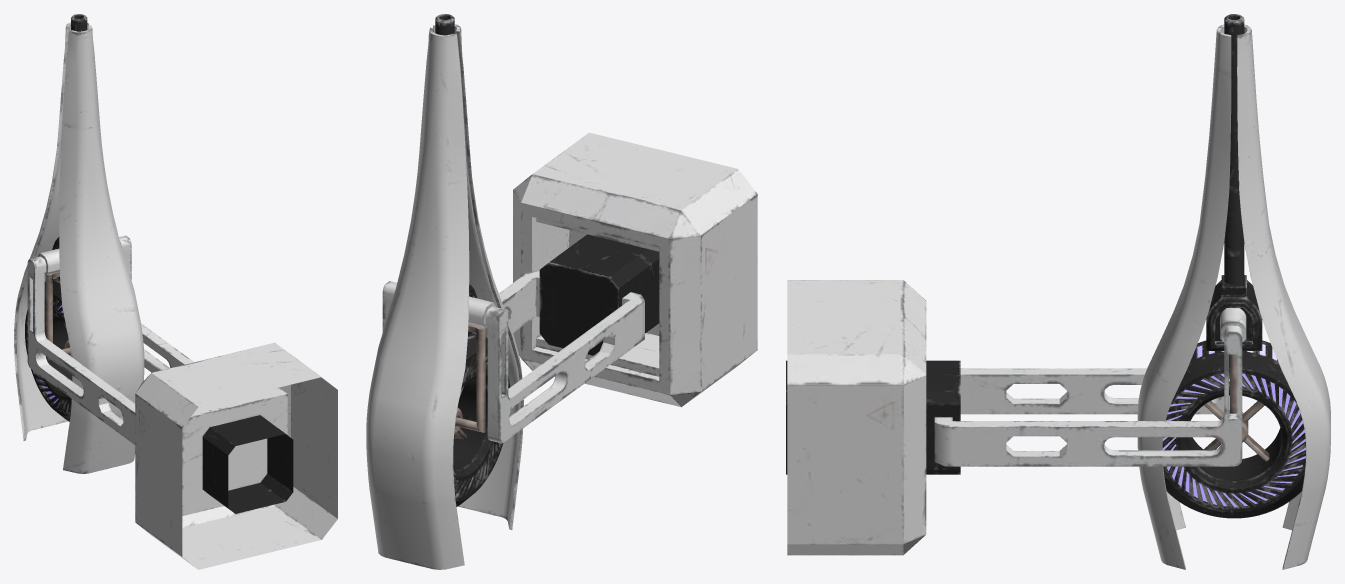
File: laser_turret.glb
The picture shows the model from 3 angles, left to right: view 1: azimuth 30°, elevation 25°; view 2: azimuth 150°, elevation 25°; view 3: azimuth 270°, elevation 25°; orthographic projection. The views are drawn at different scales.
Visible parts, largest first — view 1: turret-base, turret-barrel; view 2: turret-base, turret-barrel; view 3: turret-base, turret-barrel.
Boxes of the visible parts, box(x1,y1,x2,y2) form: turret-base: box(14, 232, 337, 569); turret-barrel: box(27, 14, 131, 284); turret-base: box(366, 132, 757, 569); turret-barrel: box(382, 14, 508, 341); turret-base: box(786, 280, 1330, 569); turret-barrel: box(1174, 14, 1293, 340).
Size of the model in its own units: 0.3785 by 1 by 0.9304.
Materials: 1 (1 with a texture image).
